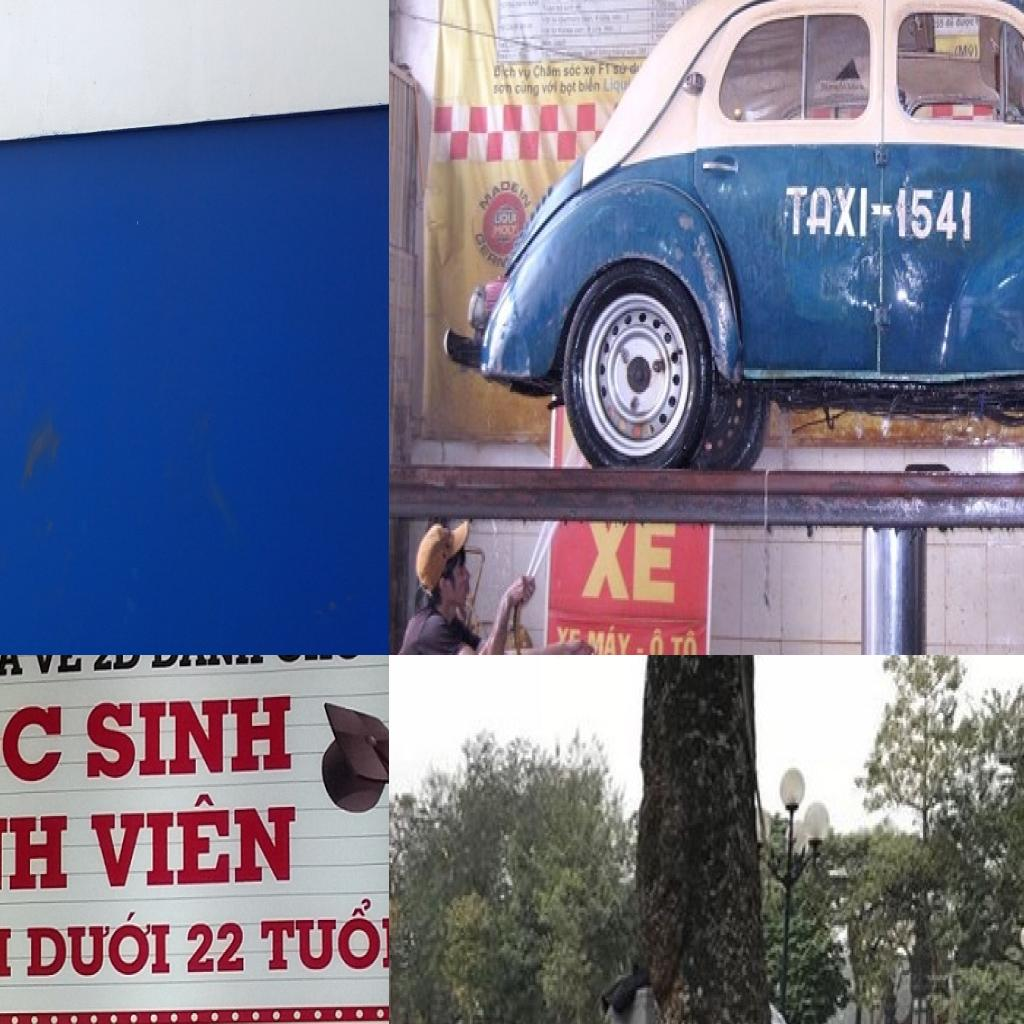text: (82, 782, 304, 892), (78, 685, 300, 790), (256, 892, 389, 979), (22, 908, 176, 982), (580, 521, 678, 607), (0, 698, 67, 811), (0, 808, 72, 903), (181, 917, 251, 981), (785, 188, 868, 241), (896, 188, 974, 243), (146, 655, 266, 674), (587, 622, 634, 655), (29, 655, 89, 680), (272, 655, 365, 671), (501, 171, 535, 212), (88, 655, 145, 677), (0, 655, 31, 687), (670, 626, 697, 655), (478, 184, 502, 212), (533, 65, 563, 81), (604, 76, 628, 96), (650, 626, 666, 655), (514, 81, 541, 98), (577, 76, 602, 94), (494, 65, 517, 83), (562, 63, 582, 79), (561, 81, 577, 98), (871, 204, 893, 216), (542, 81, 558, 96), (519, 67, 532, 83), (583, 66, 596, 78), (599, 63, 611, 76), (635, 646, 644, 655)
